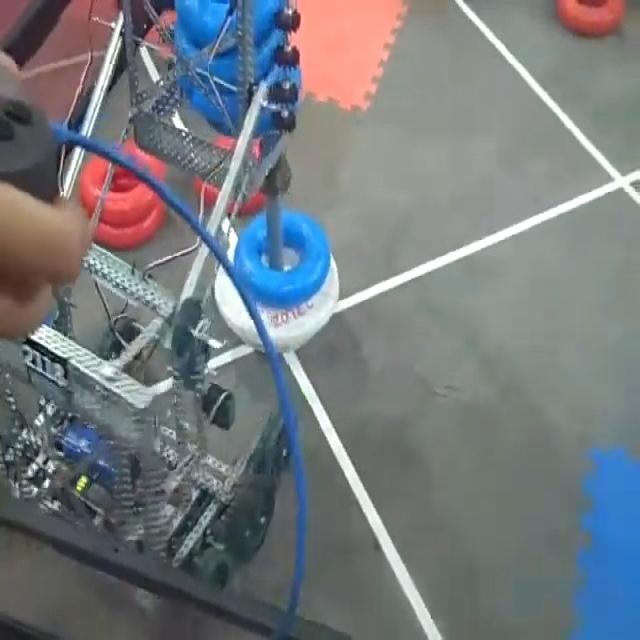Blue-Ring: (235, 208, 331, 308)
Red-Ring: (79, 157, 159, 226), (94, 198, 165, 249), (556, 0, 624, 36)
